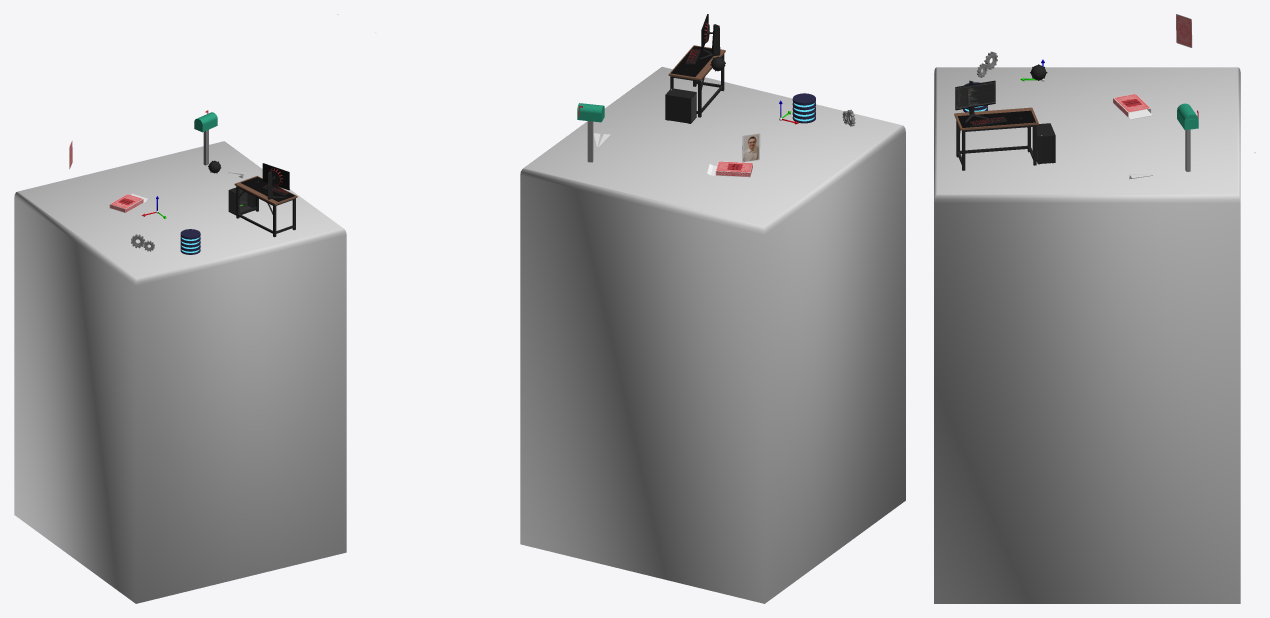
3 renders of one model, left to right at view 1: azimuth 30°, elevation 25°; view 2: azimuth 150°, elevation 25°; view 3: azimuth 270°, elevation 25°, orthographic. The views are drawn at different scales.
Parts seen in each view (by area): view 1: Ground, Cube002, Cylinder, CardPack; view 2: Ground, Cube008; view 3: Ground, Cube002, Cube004_1, Cube008, Tapis, CardPack, Cube002_1, Card.
Part boxes in pixels (x1,y1,x2,y2): Ground: (14,141,346,603); Cube002: (236,186,295,237); Cylinder: (180,229,200,254); CardPack: (109,193,147,212); Ground: (520,66,905,603); Cube008: (665,88,696,123); Ground: (934,67,1240,603); Cube002: (956,120,1036,170); Cube004_1: (956,81,995,108); Cube008: (1032,123,1055,164); Tapis: (957,110,1035,127); CardPack: (1113,94,1154,119); Cube002_1: (954,107,1038,130); Card: (1176,14,1192,47).
Bounding box in the file's own units: 24 × 28.93 × 16.08.
Materials: 26 (3 with a texture image).
